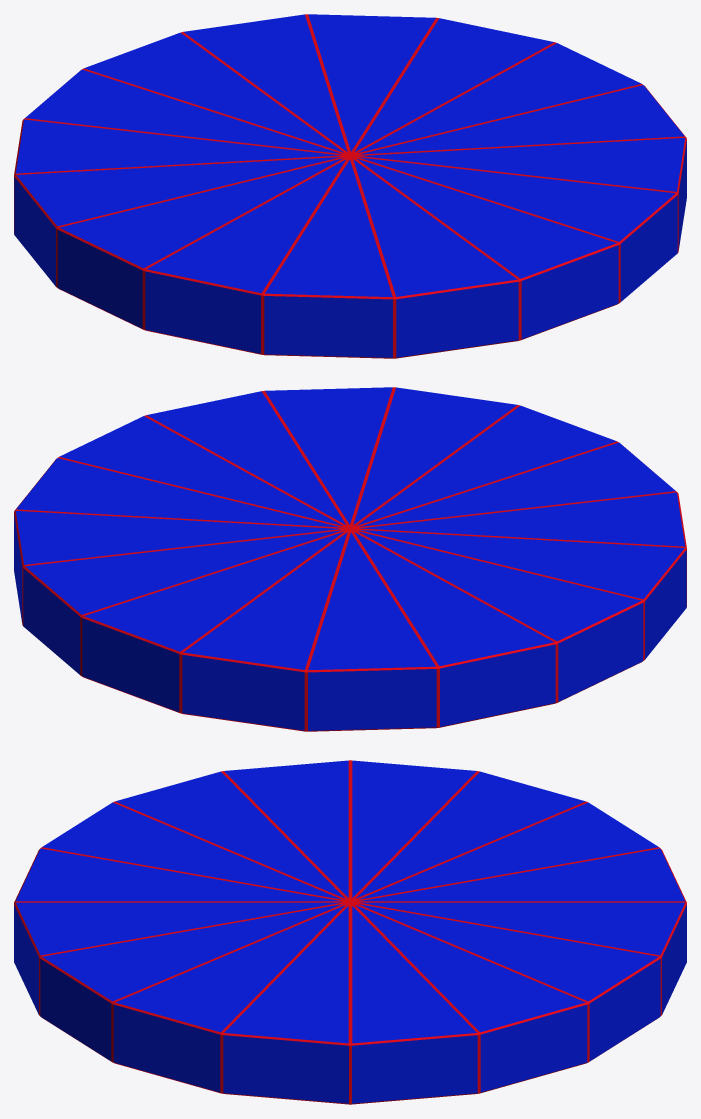
3 renders of one model, top to bottom at view 1: azimuth 30°, elevation 25°; view 2: azimuth 150°, elevation 25°; view 3: azimuth 270°, elevation 25°, orthographic.
Parts seen in each view (by area): view 1: L7_Cylinder_F5; view 2: L7_Cylinder_F5; view 3: L7_Cylinder_F5.
Part boxes in pixels (<box>): L7_Cylinder_F5: <box>14,14,686,358</box>; L7_Cylinder_F5: <box>14,387,686,731</box>; L7_Cylinder_F5: <box>14,760,686,1104</box>.
Size of the model in its own units: 1998 by 200 by 1998.
